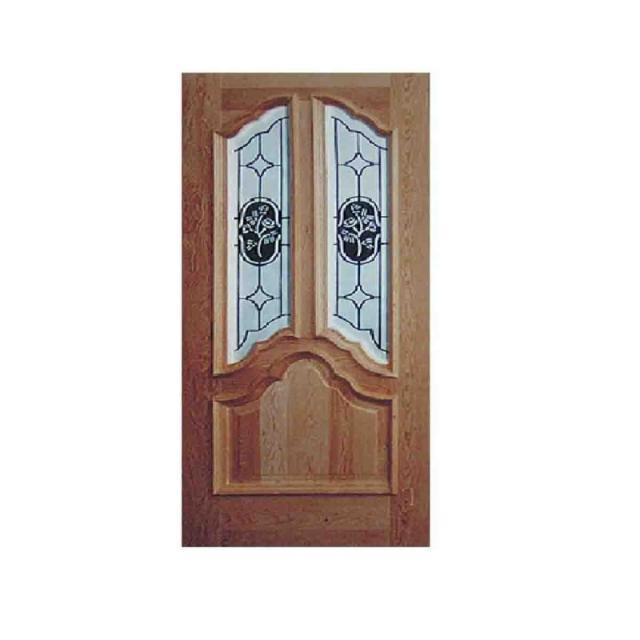door: (181, 72, 431, 547)
